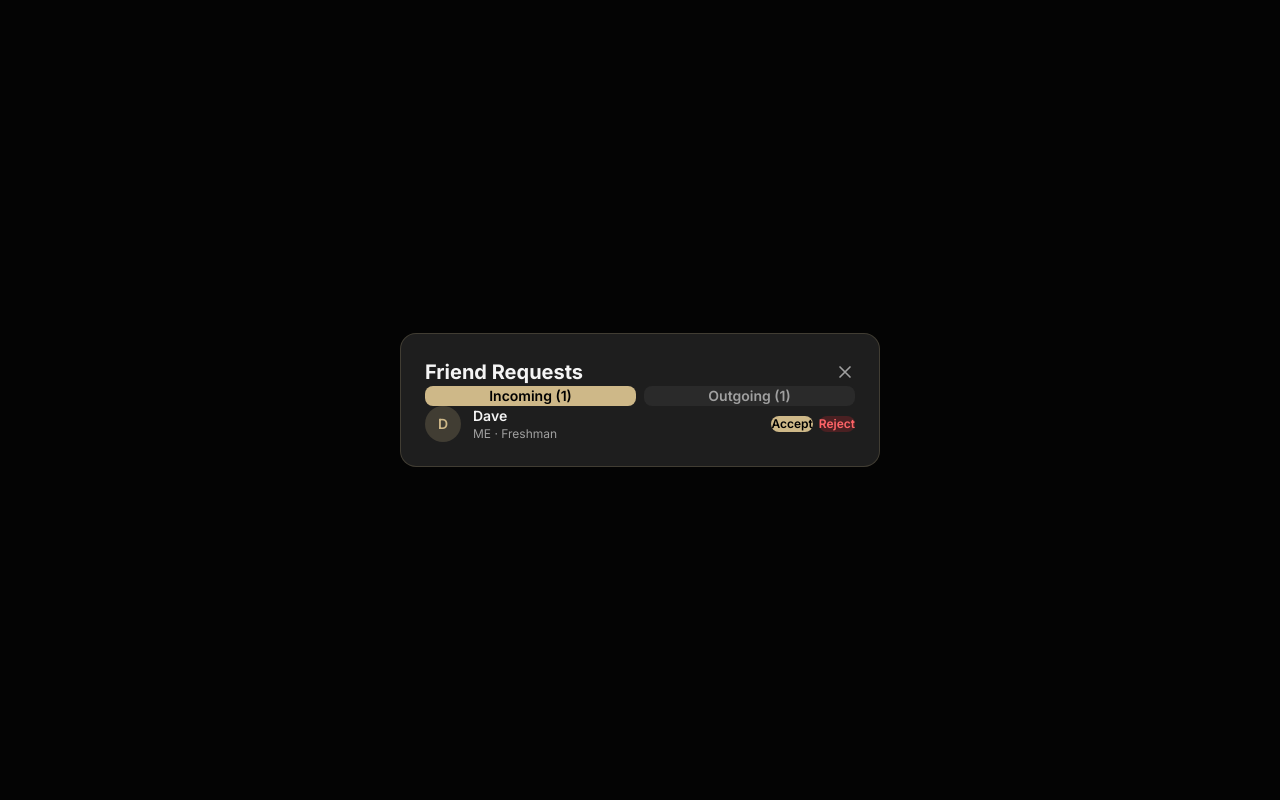
Test: FriendRequests › switches to outgoing tab
Expected: the text "Dave" is shown, [473,407,507,424]
Click the button "Outgoing (1)".
click(750, 396)  # box [644,386,855,406]
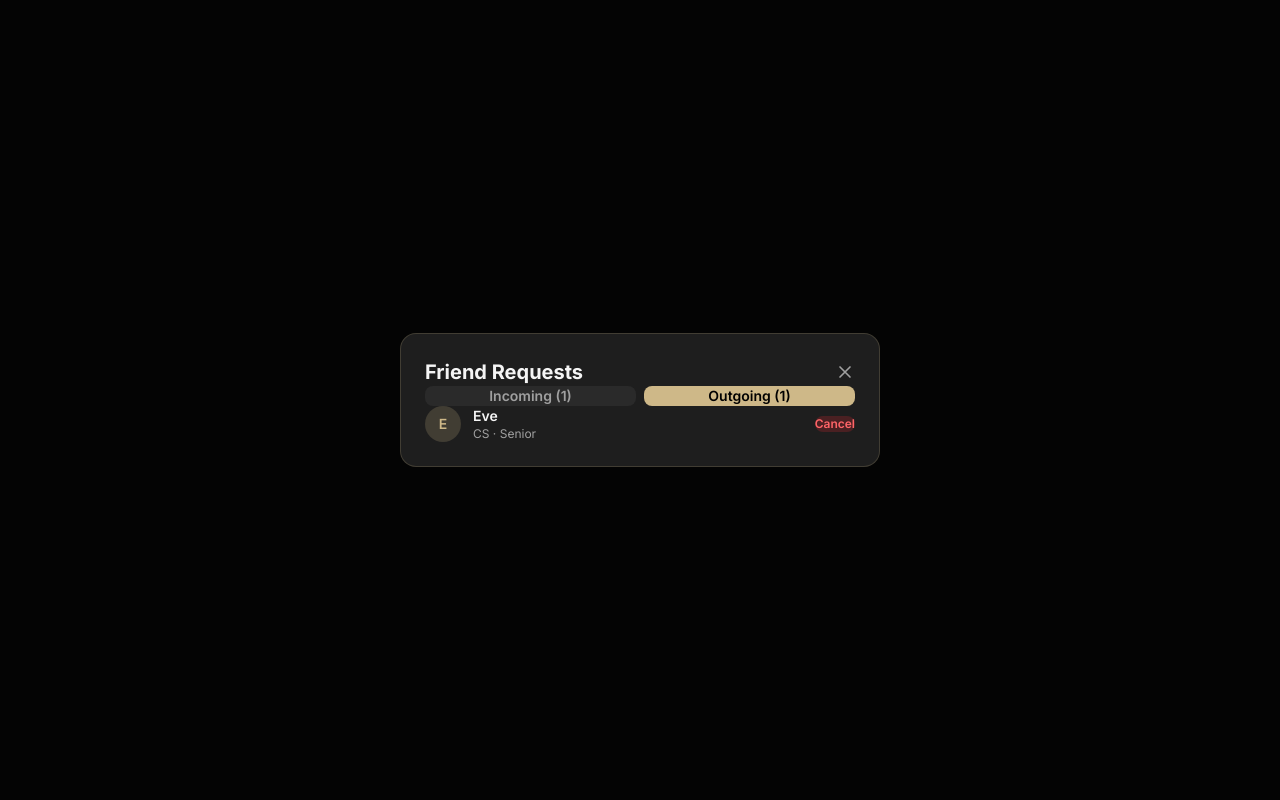
Now the text "Eve" is shown, box [473,407,498,424]
Now the button "Cancel" is shown, box [815,416,855,432]
